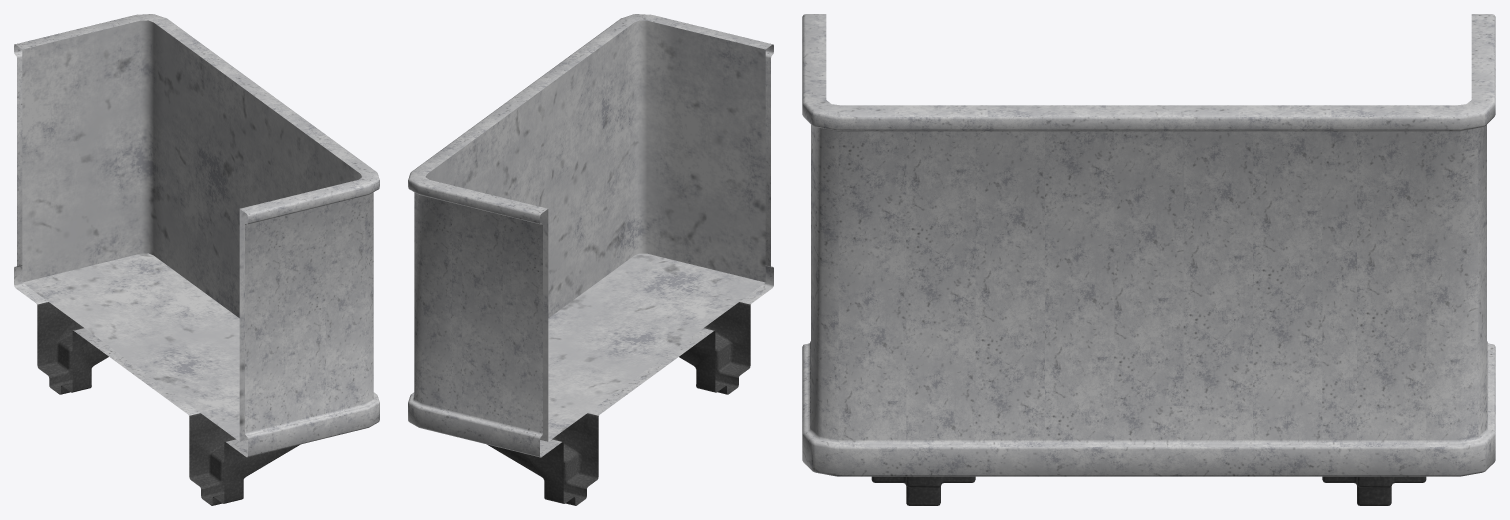
File: Balcony.fbx
3 renders of one model, left to right at view 1: azimuth 30°, elevation 25°; view 2: azimuth 150°, elevation 25°; view 3: azimuth 270°, elevation 25°, orthographic. The views are drawn at different scales.
Parts seen in each view (by area): view 1: Balcony; view 2: Balcony; view 3: Balcony.
Boxes of the visible parts, x1,y1,x2,y2 form: Balcony: [14, 14, 379, 505]; Balcony: [408, 14, 773, 505]; Balcony: [802, 14, 1495, 505].
Bounding box in the file's own units: 200 × 150 × 70.
Materials: 1 (1 with a texture image).
